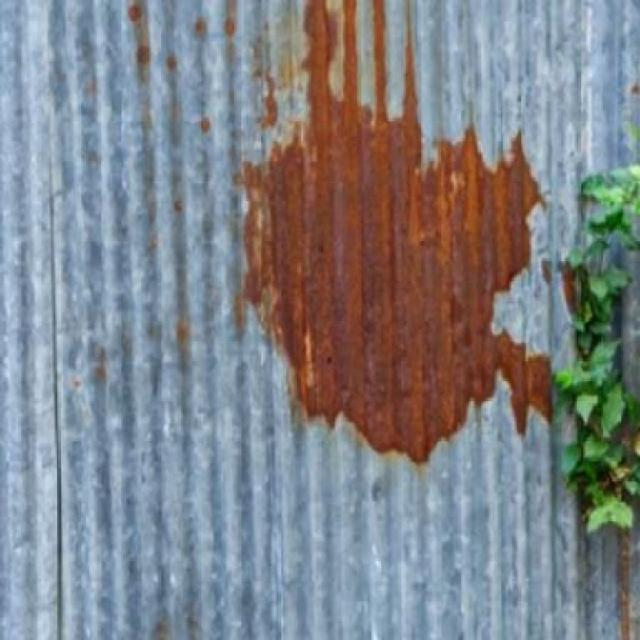Uniform Corrosion: (244, 0, 548, 463)
